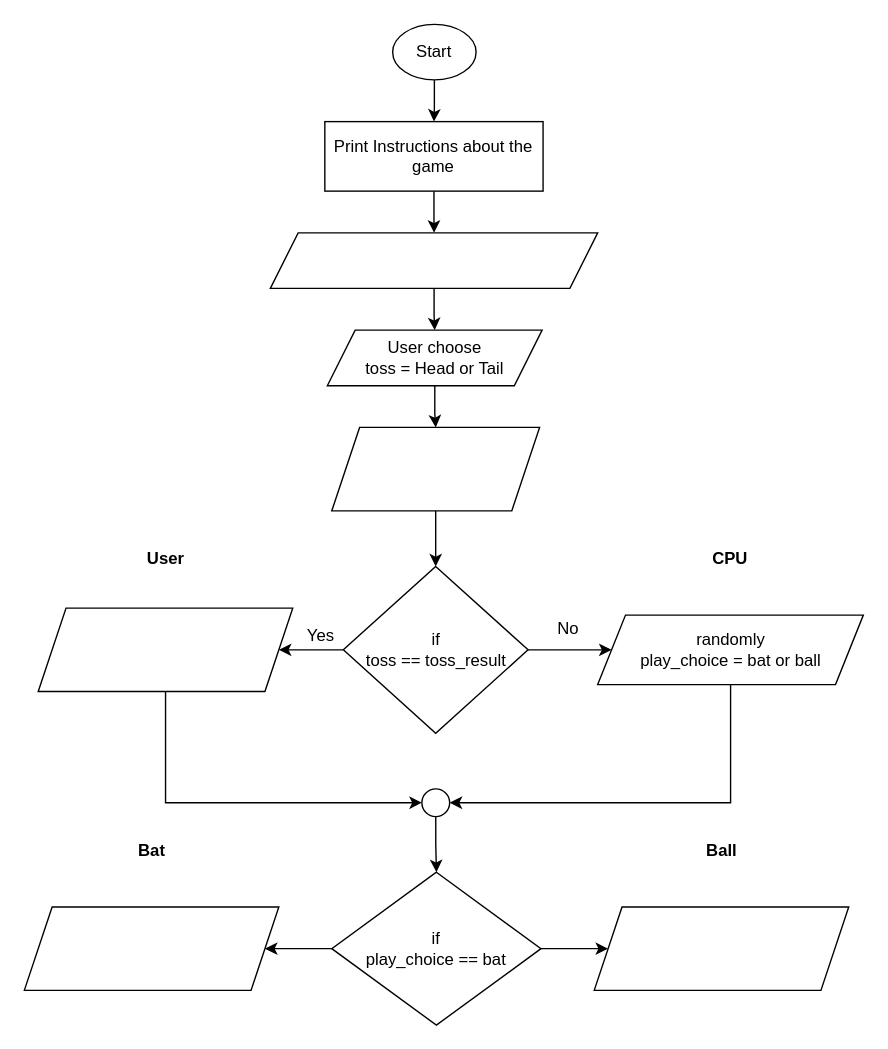
The diagram is 888 pixels wide and 1049 high, and some of its shapes have lost their labels. The centre of each missing label's shape, as x and y in pixels:
import random() randomly pick toss_result = H or T: point 435,468
play_choice = "Bat or Ball?": point 165,649
total_balls = "How Many Balls?" total_wickets = "How Many Wickets?": point 433,259
